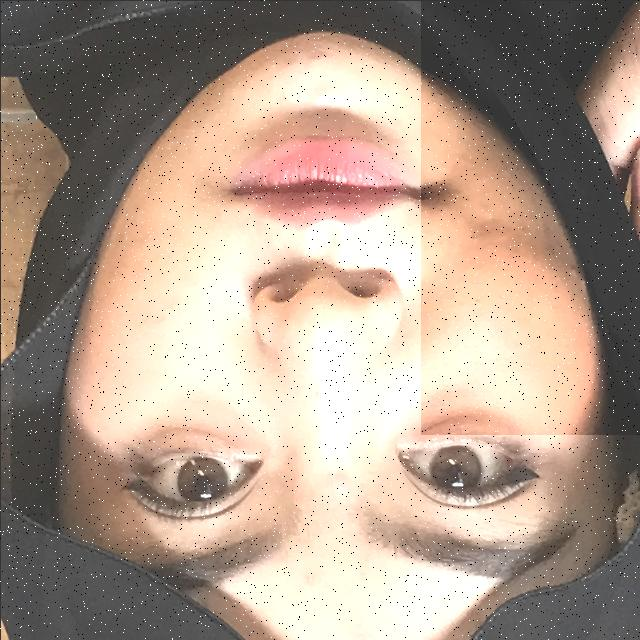ibu: (420, 0, 640, 434)
